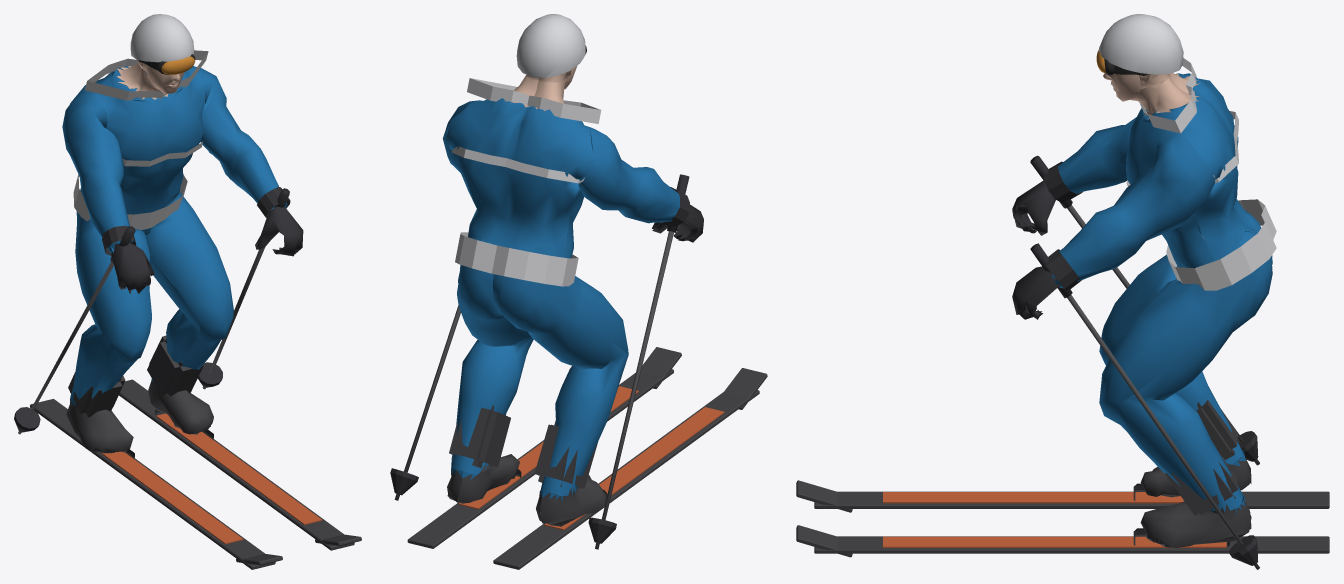
The model's file is skier-crouch.glb.
3 renders of one model, left to right at view 1: azimuth 30°, elevation 25°; view 2: azimuth 150°, elevation 25°; view 3: azimuth 270°, elevation 25°, orthographic. The views are drawn at different scales.
Visible parts, largest first — view 1: skier-crouch; view 2: skier-crouch; view 3: skier-crouch.
Part boxes in pixels (x1=…): skier-crouch: x1=14, y1=14, x2=361, y2=569; skier-crouch: x1=390, y1=14, x2=767, y2=569; skier-crouch: x1=796, y1=14, x2=1329, y2=569.
Size of the model in its own units: 0.7933 by 1.63 by 1.54.
